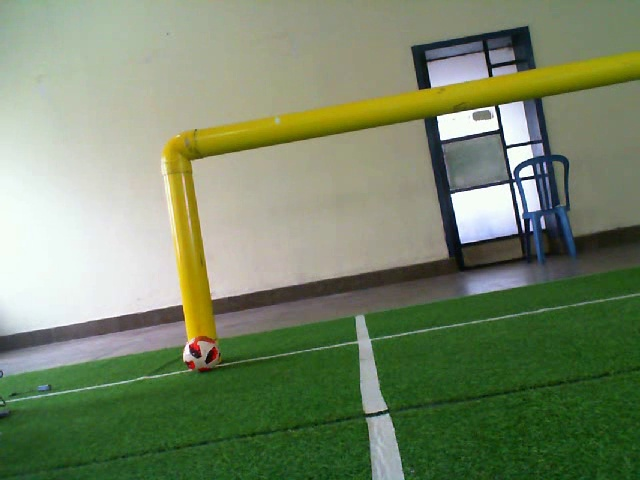ball: (181, 334, 223, 374)
